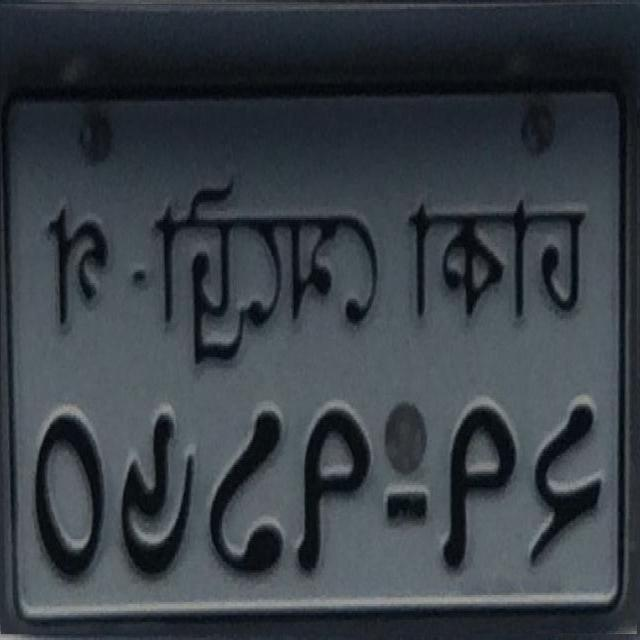numberplate: (1, 4, 637, 634)
